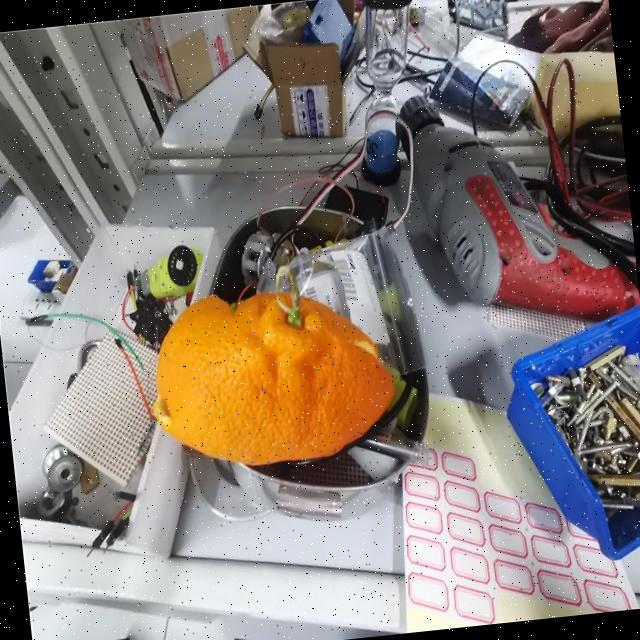orange-peel: (139, 274, 401, 477)
